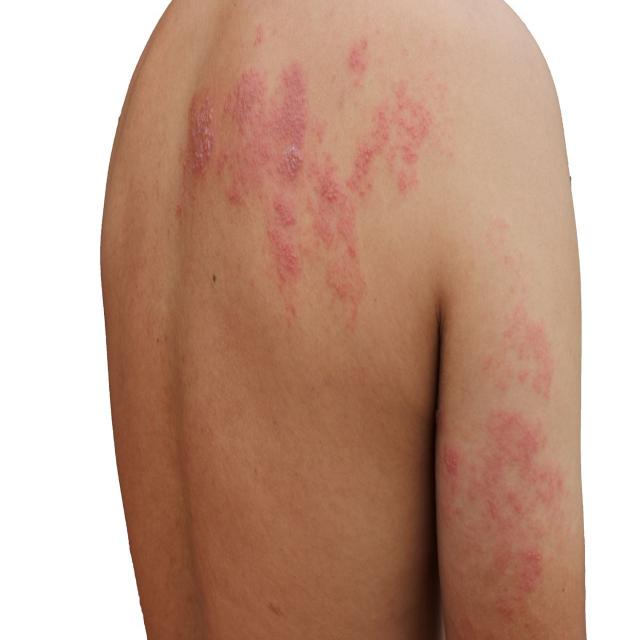herpes zoster: (180, 51, 443, 318), (452, 277, 565, 640)
